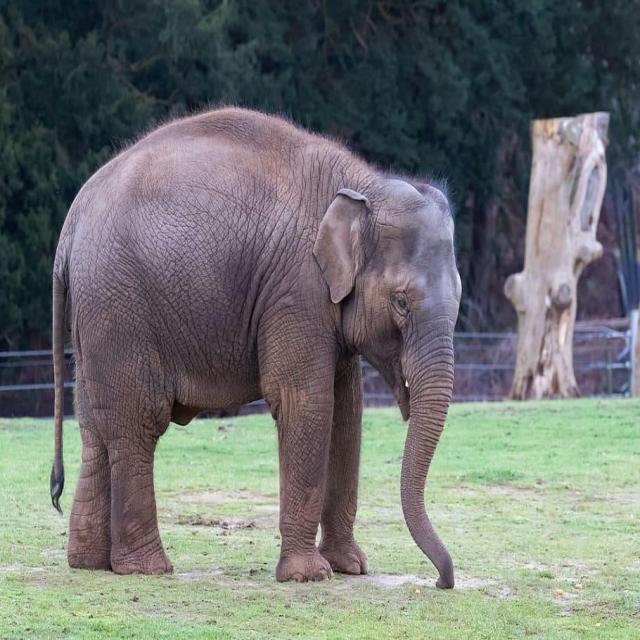Elephant: (51, 102, 463, 593)
